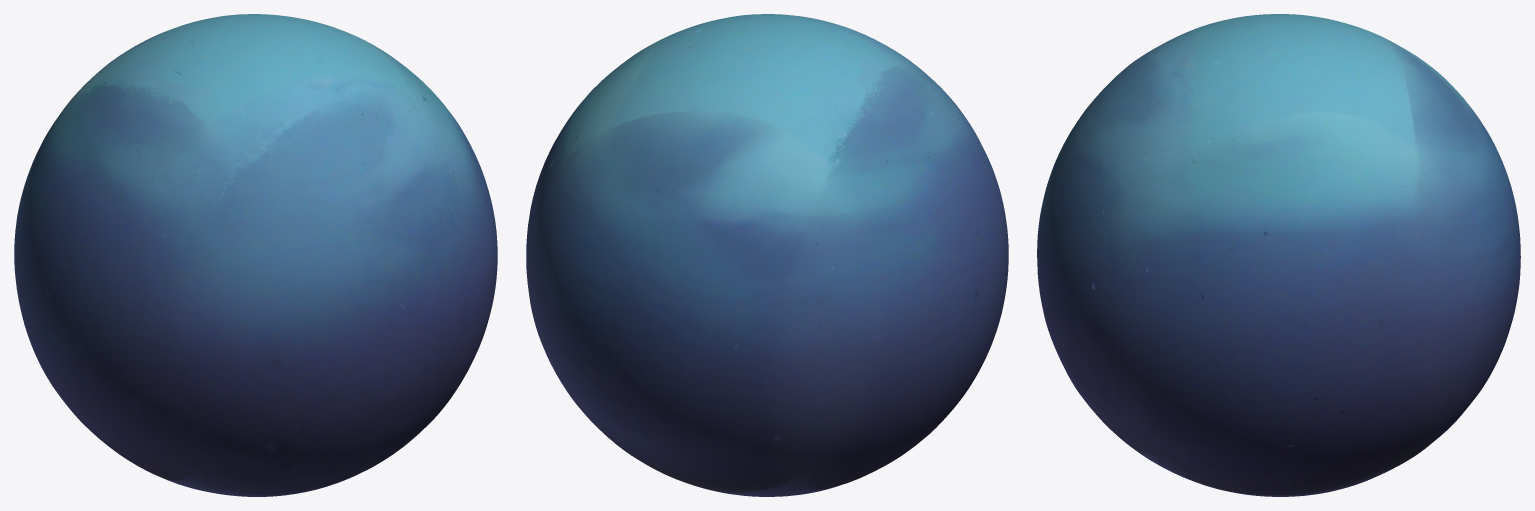
The model's file is neptune(draco).glb.
3 renders of one model, left to right at view 1: azimuth 30°, elevation 25°; view 2: azimuth 150°, elevation 25°; view 3: azimuth 270°, elevation 25°, orthographic.
Parts seen in each view (by area): view 1: Mesh_0.007; view 2: Mesh_0.007; view 3: Mesh_0.007.
Boxes of the visible parts, box(x1,y1,x2,y2) form: Mesh_0.007: box(14, 14, 497, 496); Mesh_0.007: box(526, 14, 1008, 496); Mesh_0.007: box(1037, 14, 1520, 496).
Size of the model in its own units: 2 by 2 by 2.
Materials: 1 (1 with a texture image).
